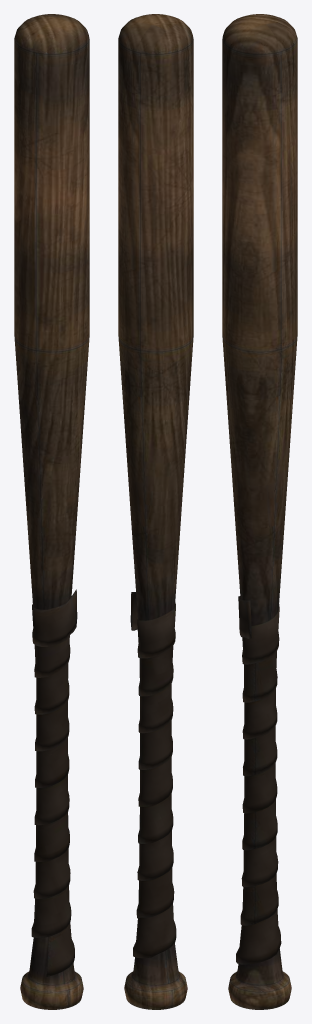
The picture shows the model from 3 angles, left to right: view 1: azimuth 30°, elevation 25°; view 2: azimuth 210°, elevation 25°; view 3: azimuth 270°, elevation 25°; orthographic projection.
Visible parts, largest first — view 1: baseball_bat; view 2: baseball_bat; view 3: baseball_bat.
Boxes of the visible parts, <box> form: baseball_bat: <box>14,14,89,1009</box>; baseball_bat: <box>118,14,193,1009</box>; baseball_bat: <box>222,14,297,1009</box>.
Size of the model in its own units: 0.0635 by 0.9132 by 0.0635.
Materials: 1 (1 with a texture image).
